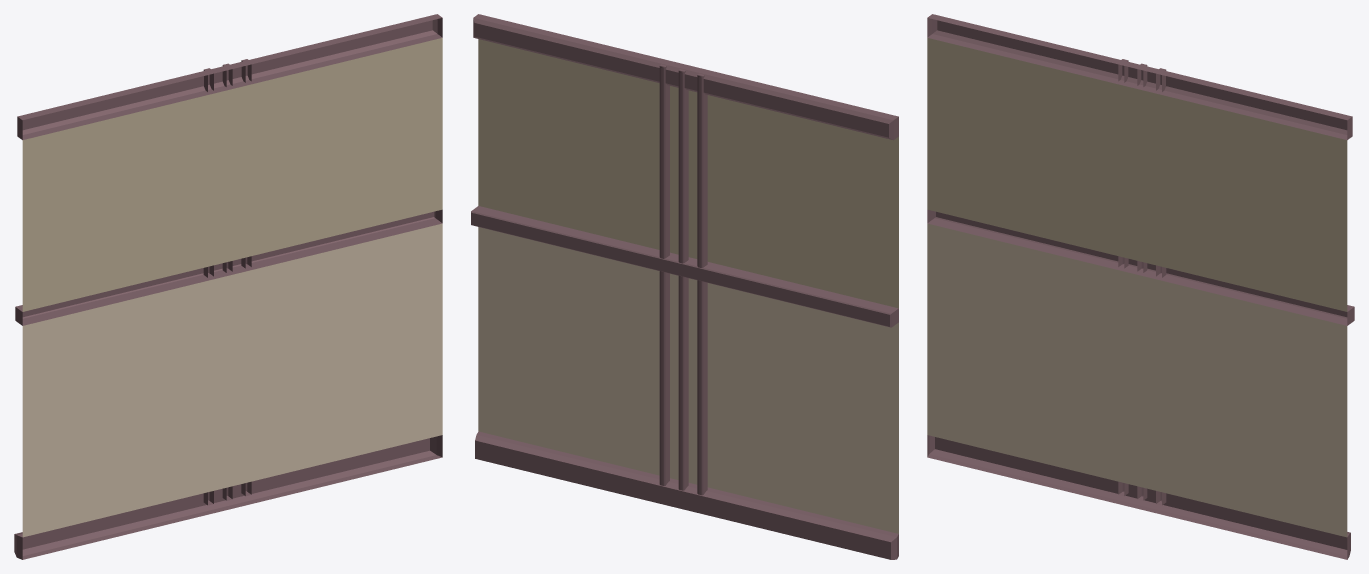
File: wall_2.fbx
The picture shows the model from 3 angles, left to right: view 1: azimuth 30°, elevation 25°; view 2: azimuth 150°, elevation 25°; view 3: azimuth 330°, elevation 25°; orthographic projection.
Visible parts, largest first — view 1: pCube1; view 2: pCube1, pCube4, pCube3, pCube5; view 3: pCube1.
Part boxes in pixels (bbox=[...]): pCube1: bbox=[14, 14, 442, 559]; pCube1: bbox=[471, 14, 898, 559]; pCube4: bbox=[659, 64, 669, 485]; pCube3: bbox=[678, 69, 688, 490]; pCube5: bbox=[697, 73, 707, 495]; pCube1: bbox=[927, 14, 1354, 559].
Bounding box in the file's own units: 0.7122 × 0.7089 × 0.0235.
